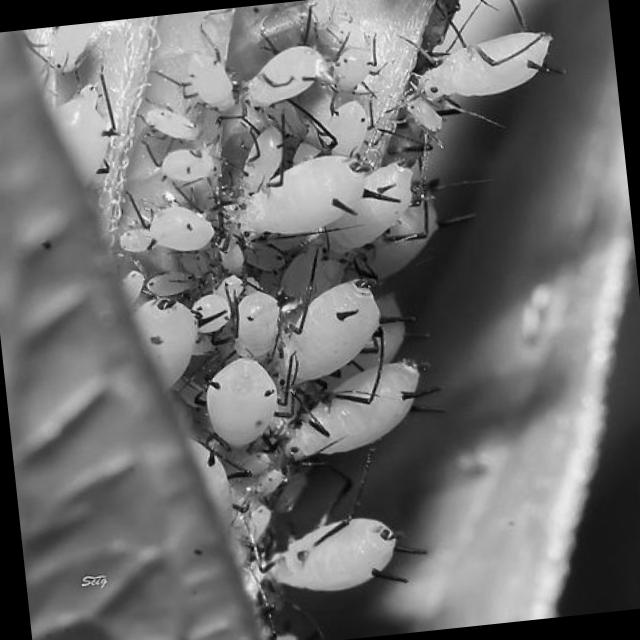Aphids: (267, 354, 458, 486), (238, 490, 442, 610), (382, 4, 570, 122), (204, 140, 388, 256), (266, 269, 392, 386), (200, 352, 286, 459), (120, 294, 202, 386), (236, 40, 326, 121), (126, 198, 212, 264), (226, 284, 288, 358), (183, 53, 244, 124), (157, 139, 215, 187), (144, 100, 201, 147)
